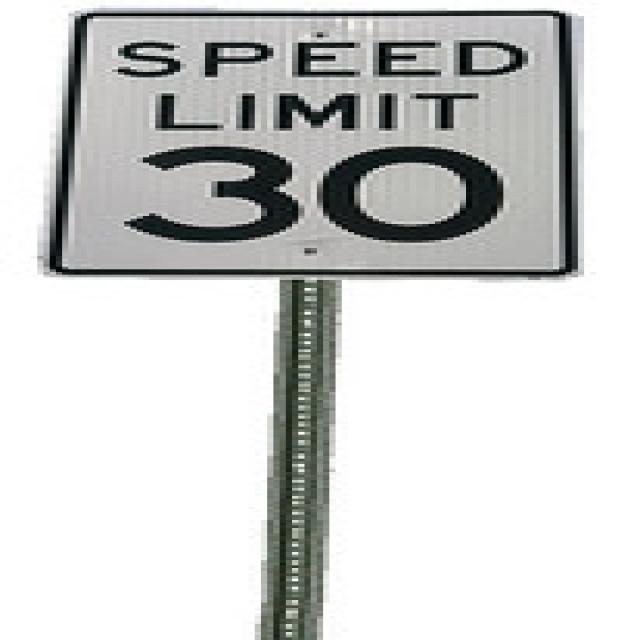speedLimit30: (53, 15, 575, 281)
